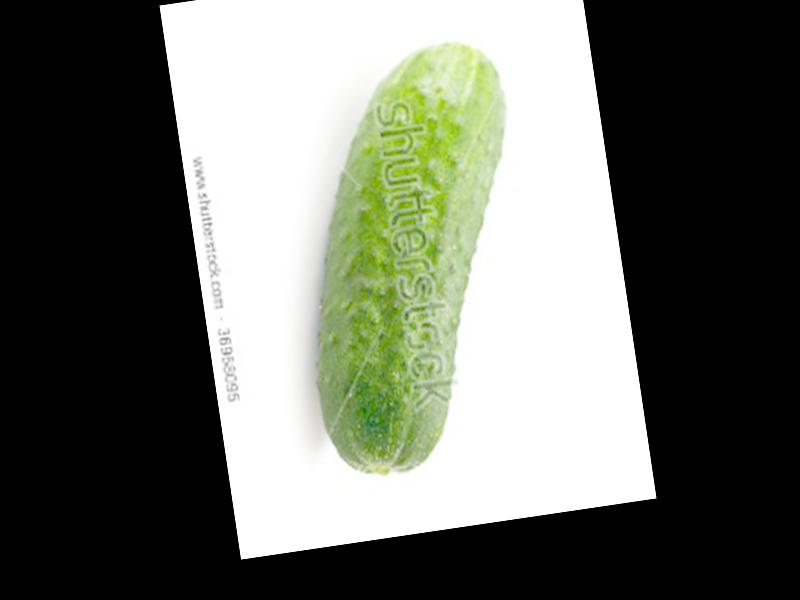Cucumber: (269, 36, 557, 481)
